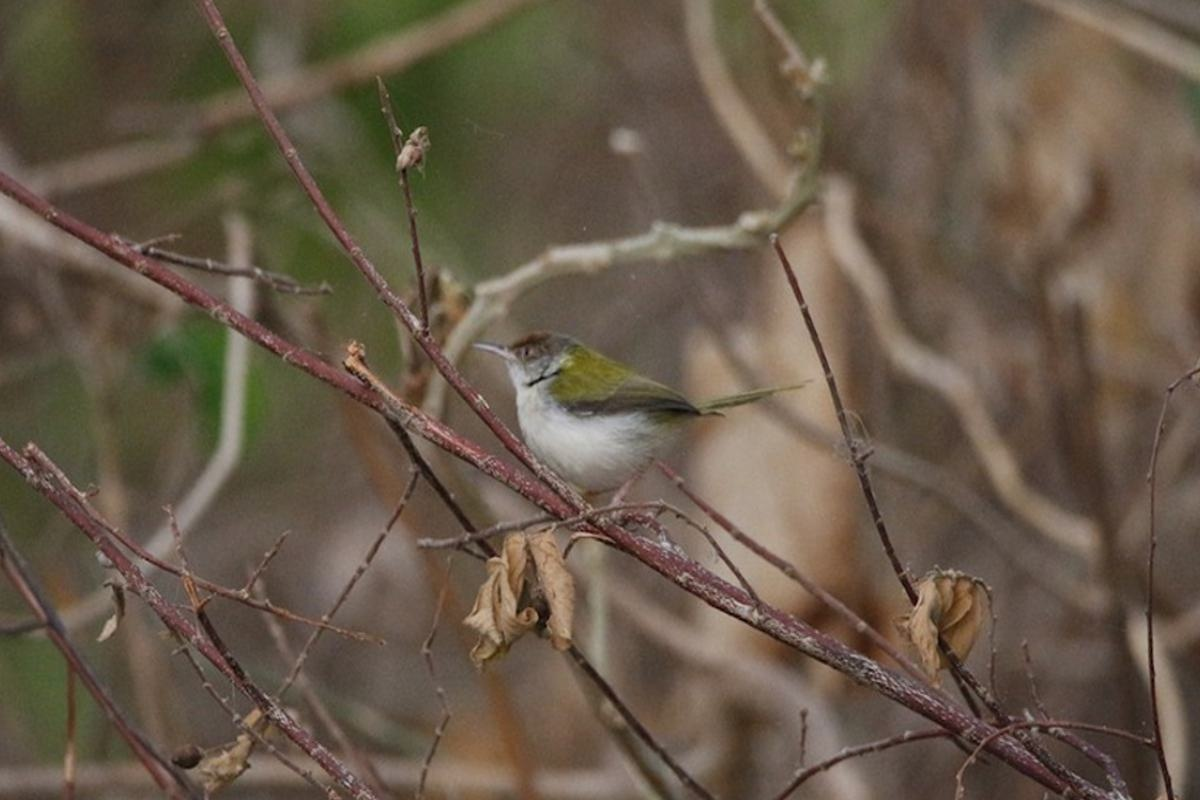tailorbird: (450, 302, 819, 515)
